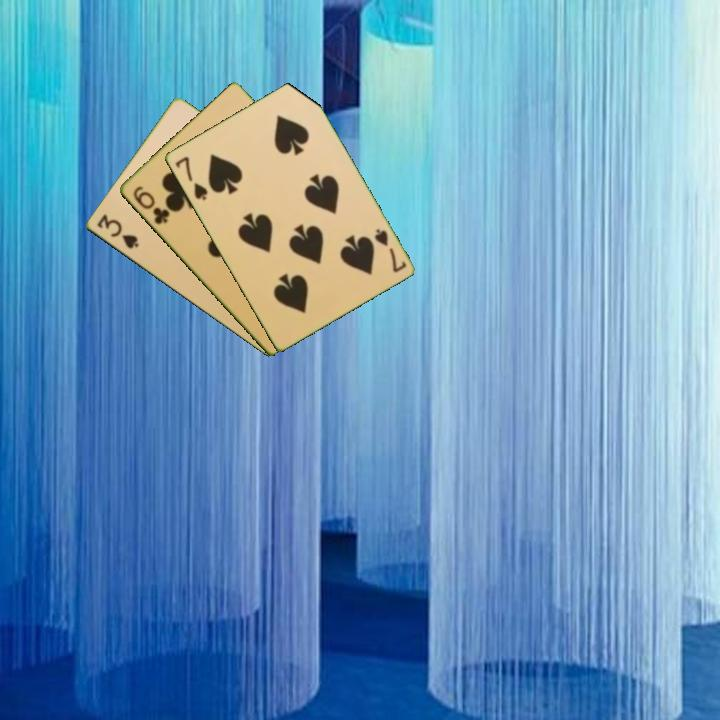3s: (93, 210, 141, 252)
6c: (129, 182, 172, 227)
7s: (171, 152, 210, 203), (370, 225, 409, 276)
